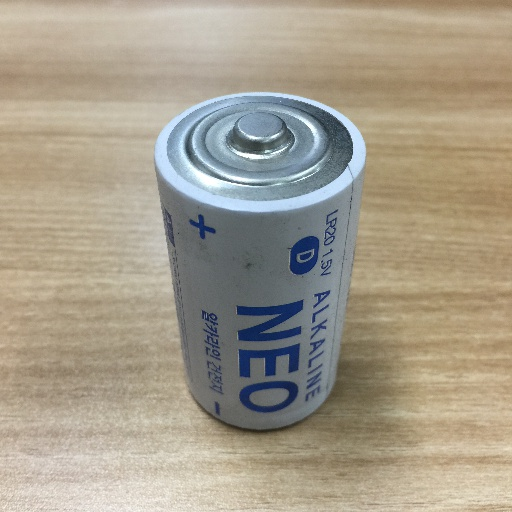Battery_0: (143, 84, 379, 440)
